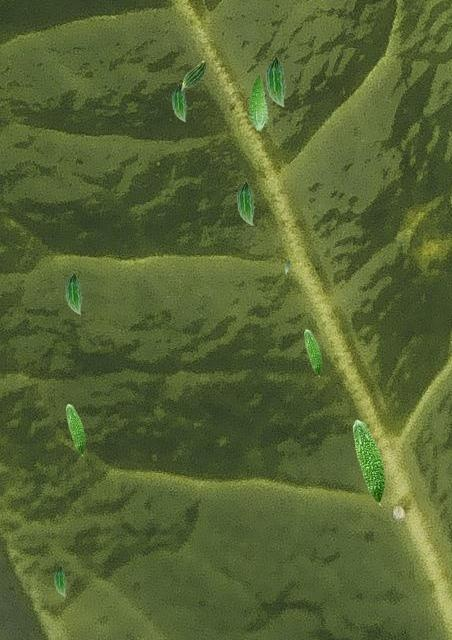ampalaya: (352, 419, 386, 506), (247, 73, 269, 133), (65, 403, 86, 456), (265, 54, 286, 107), (304, 329, 323, 377), (236, 179, 255, 225), (180, 60, 206, 90), (65, 271, 82, 314), (171, 82, 187, 122), (53, 564, 66, 596), (285, 258, 290, 275)
